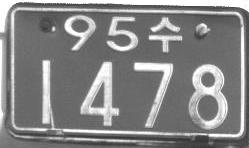1: (28, 60, 65, 125)
4: (80, 60, 120, 127)
5: (105, 15, 139, 53)
7: (133, 60, 173, 129)
8: (187, 63, 228, 130)
9: (63, 13, 97, 51)
수: (148, 16, 183, 53)
